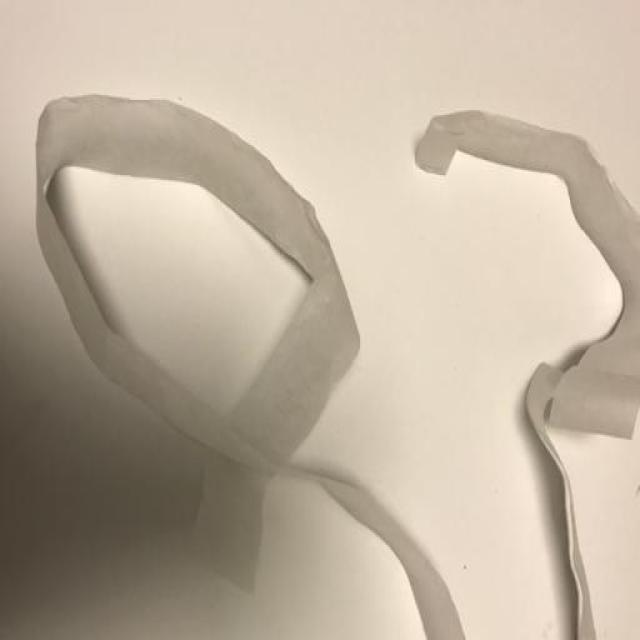Random Trash: (32, 95, 465, 640), (412, 112, 640, 640)
